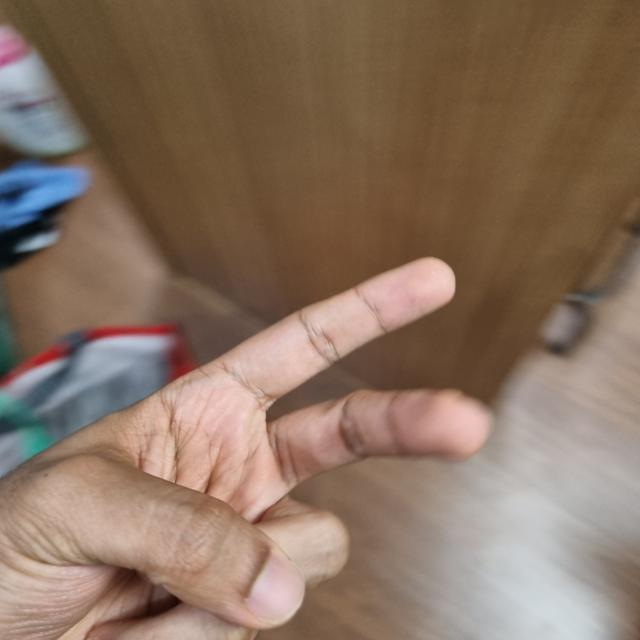Scissors: (0, 258, 484, 639)
